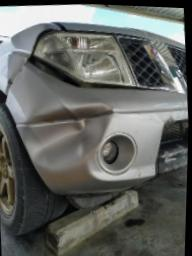Bumper: (5, 57, 184, 193)
